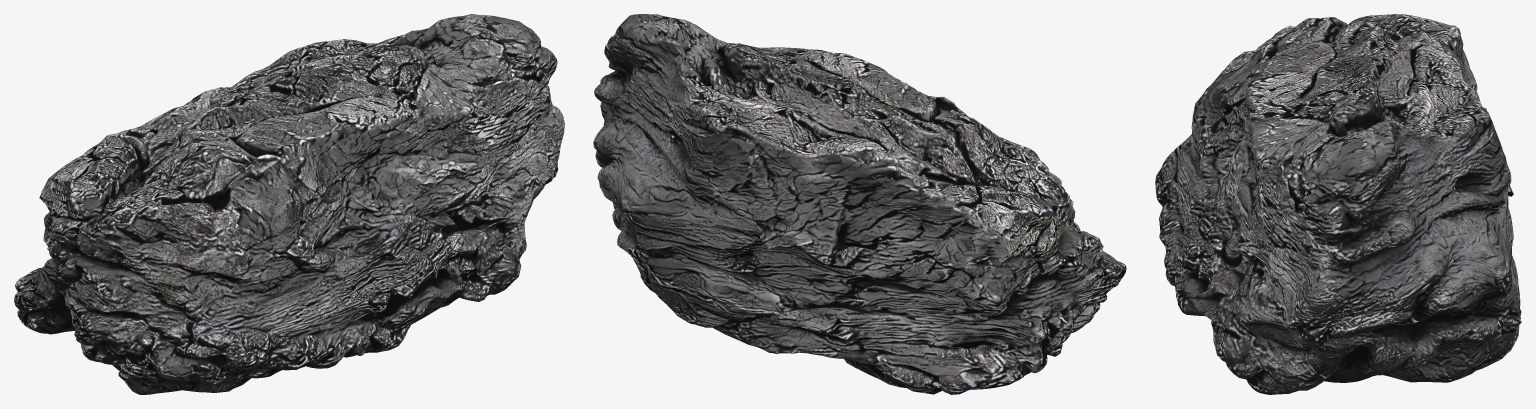
File: base_basic_shaded.glb
3 views of the same model, side by side, from view 1: azimuth 30°, elevation 25°; view 2: azimuth 150°, elevation 25°; view 3: azimuth 270°, elevation 25° (orthographic). The views are drawn at different scales.
Parts seen in each view (by area): view 1: model; view 2: model; view 3: model.
Part boxes in pixels (x1,y1,x2,y2): model: [14, 14, 564, 394]; model: [593, 14, 1126, 394]; model: [1155, 14, 1521, 394].
Size of the model in its own units: 1.89 by 0.9386 by 1.03.
1 material, 1 textured.
